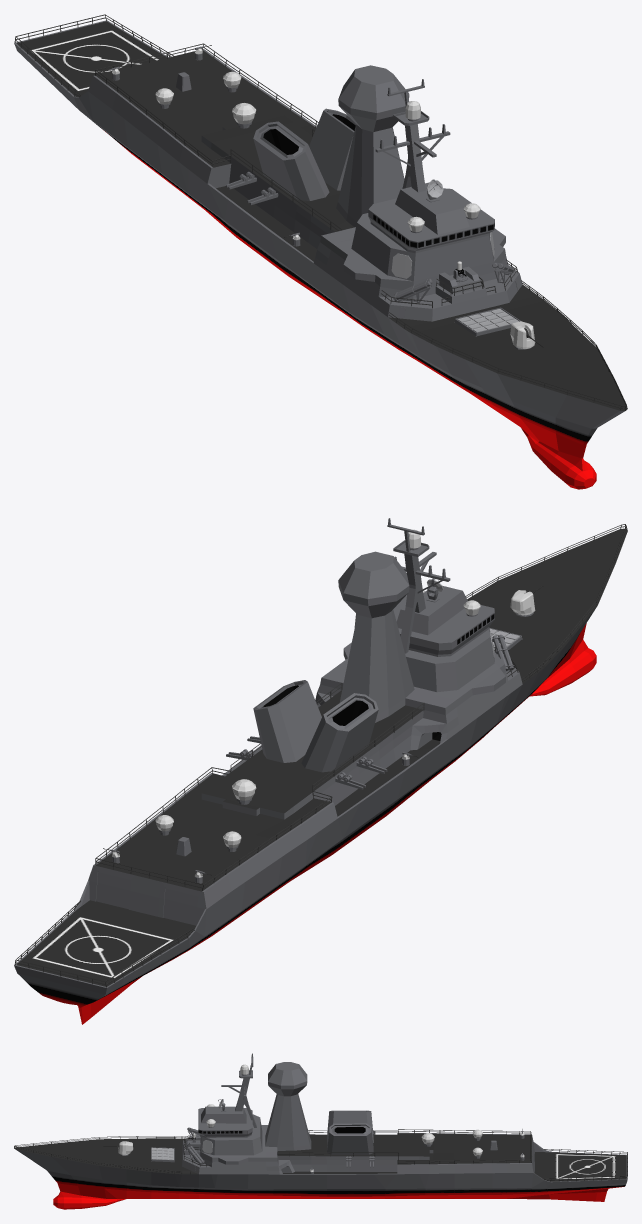
3 renders of one model, top to bottom at view 1: azimuth 30°, elevation 25°; view 2: azimuth 150°, elevation 25°; view 3: azimuth 270°, elevation 25°, orthographic. The views are drawn at different scales.
Visible parts, largest first — view 1: Cube; view 2: Cube, Cube.008, Cube.007; view 3: Cube.
Boxes of the visible parts, x1,y1,x2,y2 form: Cube: (14, 14, 627, 489); Cube: (14, 518, 627, 1024); Cube.008: (163, 886, 198, 925); Cube.007: (96, 870, 130, 909); Cube: (14, 1053, 627, 1209).
Bounding box in the file's own units: 2272 × 3982 × 14783.
